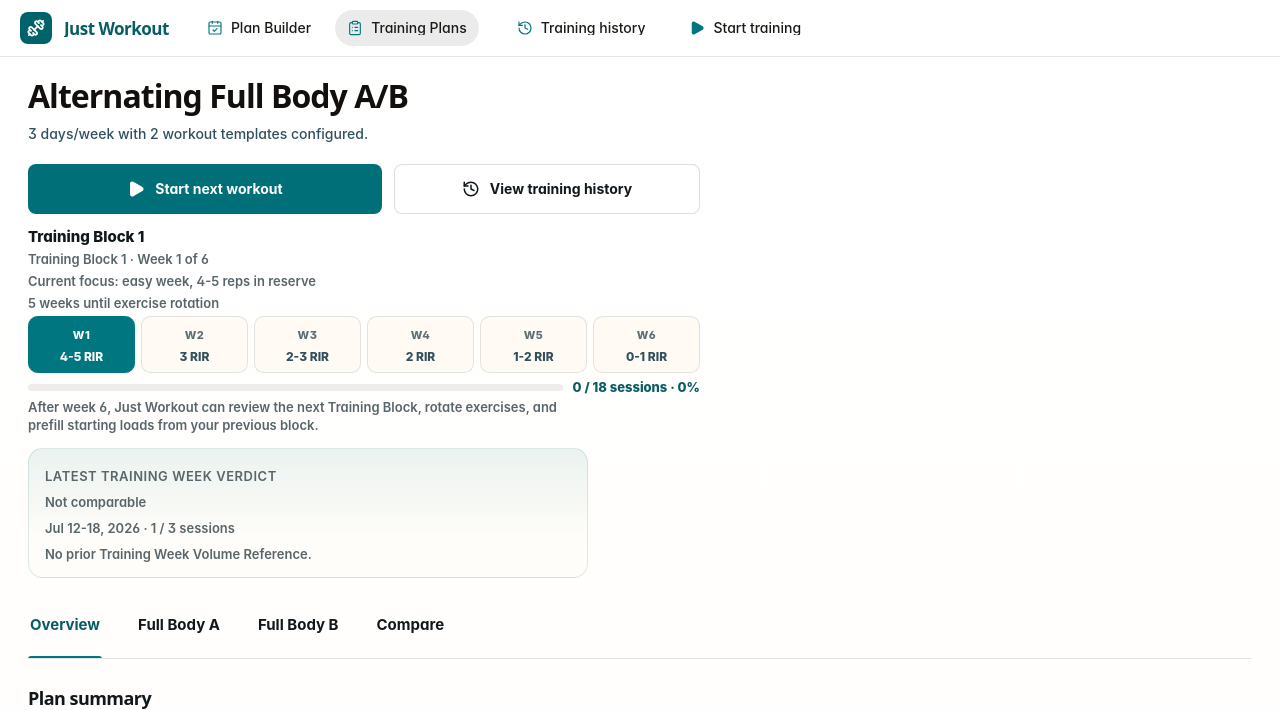
Scenario: TrainingPlanRoute › swaps a current-block workout slot before the first completed session and updates the next visible session
This screenshot has width=1280, height=710.
Expected: the heading "Alternating Full Body A/B" is shown, [28,74,408,117]
Click the tab "Full Body A".
click(179, 632)  # box [136,606,222,658]
(page scrolled)
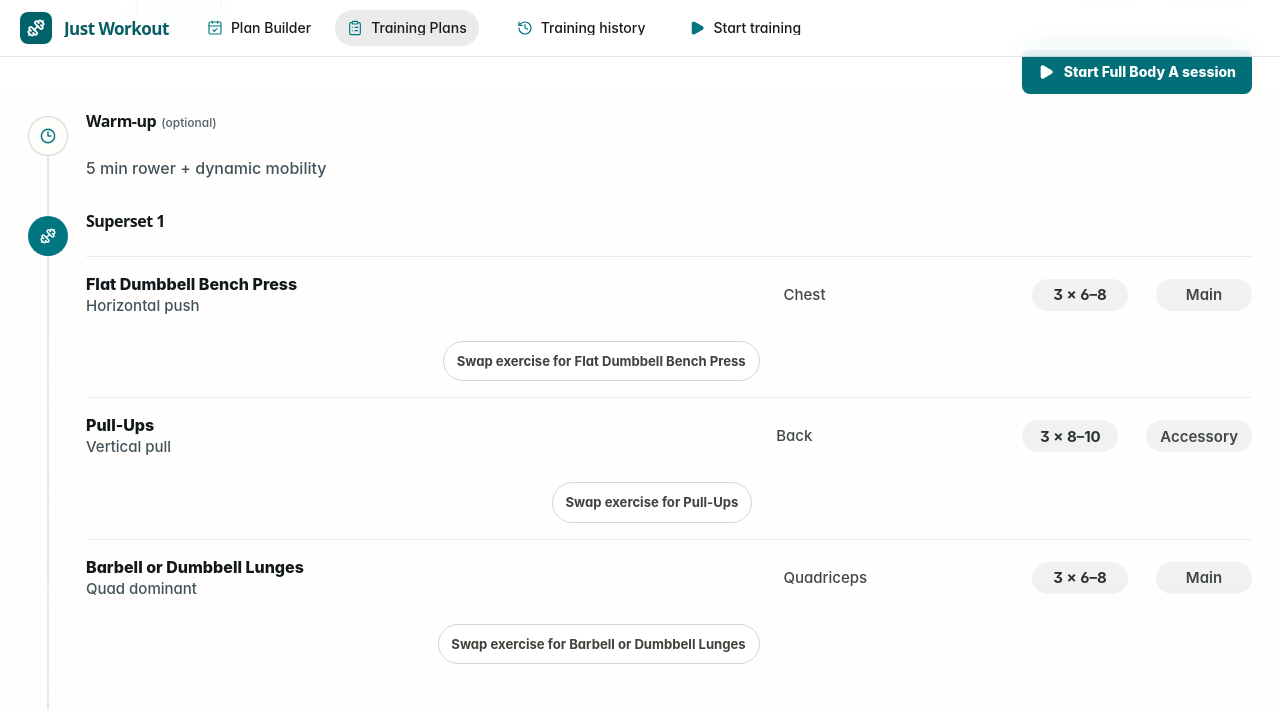
Click the button "Swap exercise for Flat Dumbbell Bench Press".
click(601, 361)  # box [443,341,760,381]
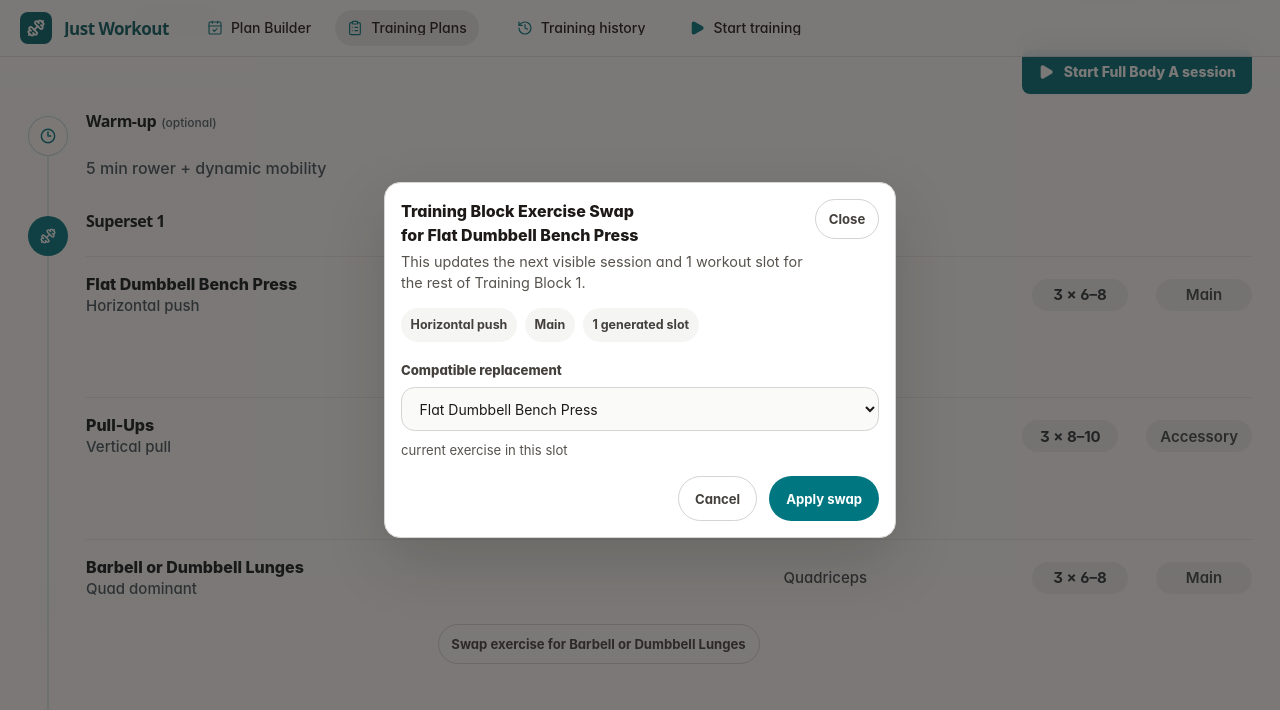
Result: the text "This updates the next visible session and 1 workout slot for the rest of Training Block 1." is shown at [401,253,803,291]
Select "Incline Dumbbell Bench Press" in the dropdown labelled "Compatible replacement" at [640, 409], box [401,388,879,431]
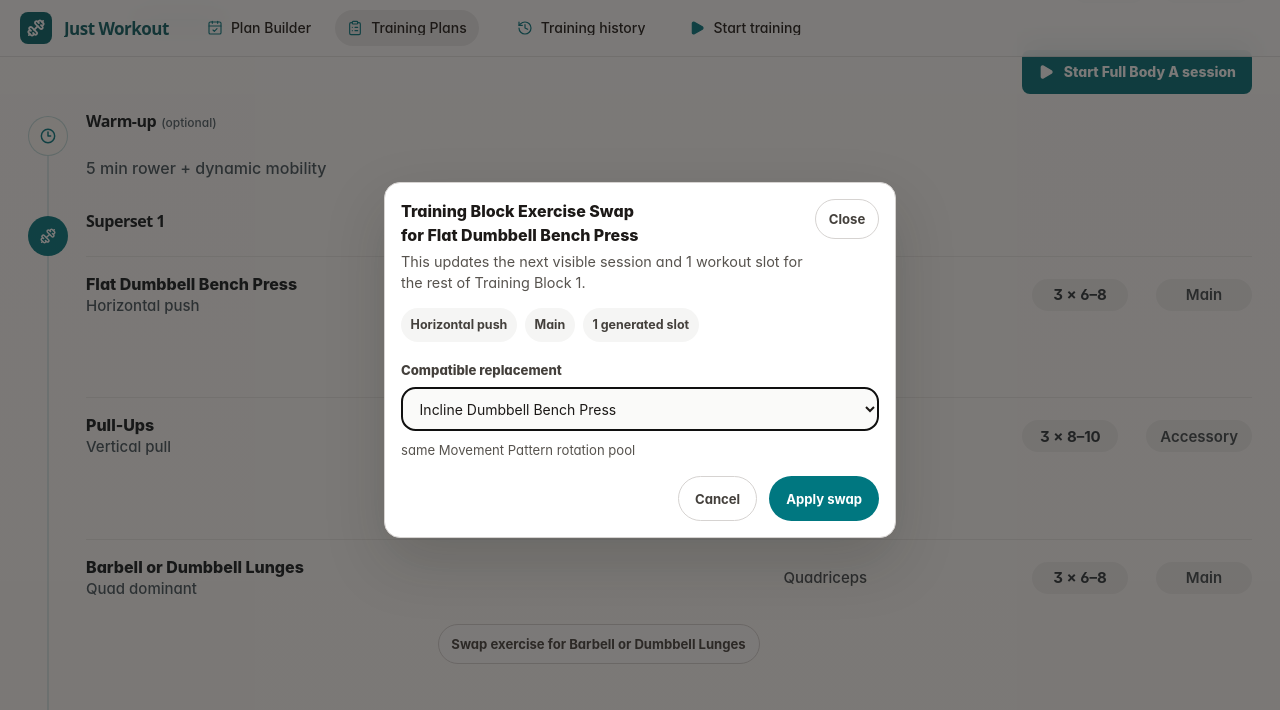
Click the button "Apply swap".
click(824, 499)  # box [769,476,879,522]
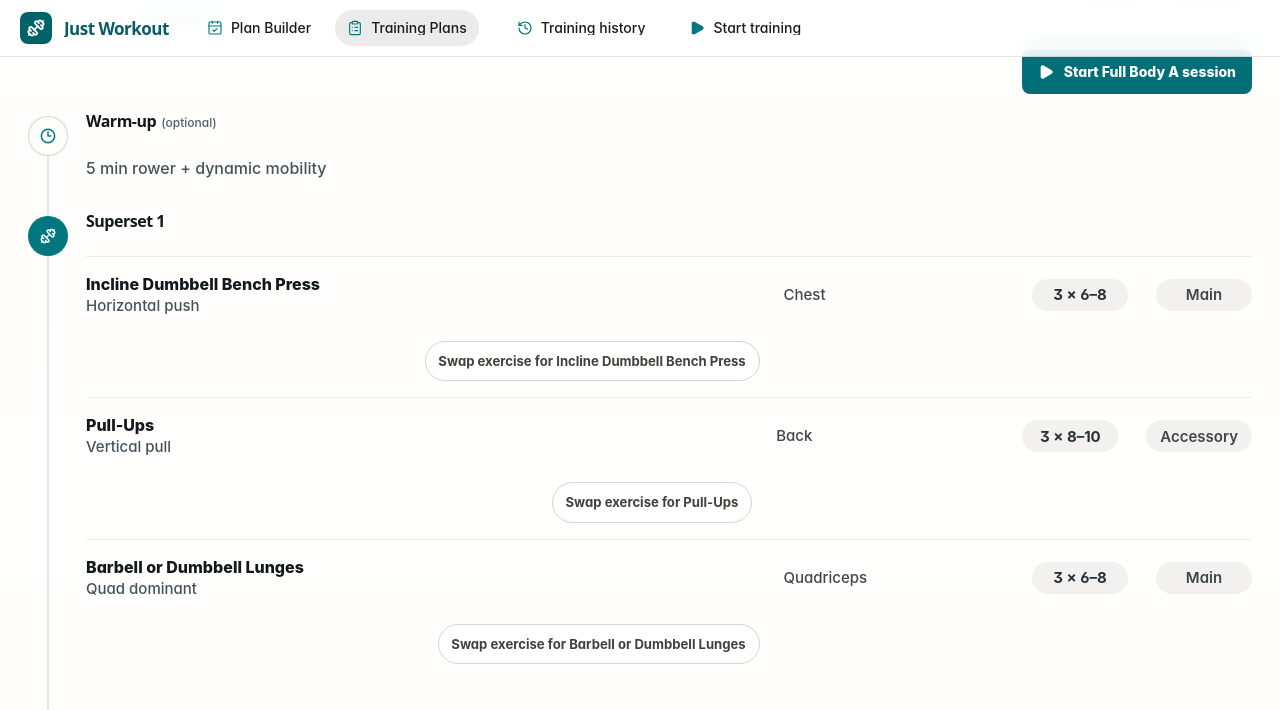
Result: the heading "Incline Dumbbell Bench Press" is shown at [86,274,320,294]
Click the button "Start Full Body A session".
click(1137, 72)  # box [1022,50,1252,94]
(page scrolled)
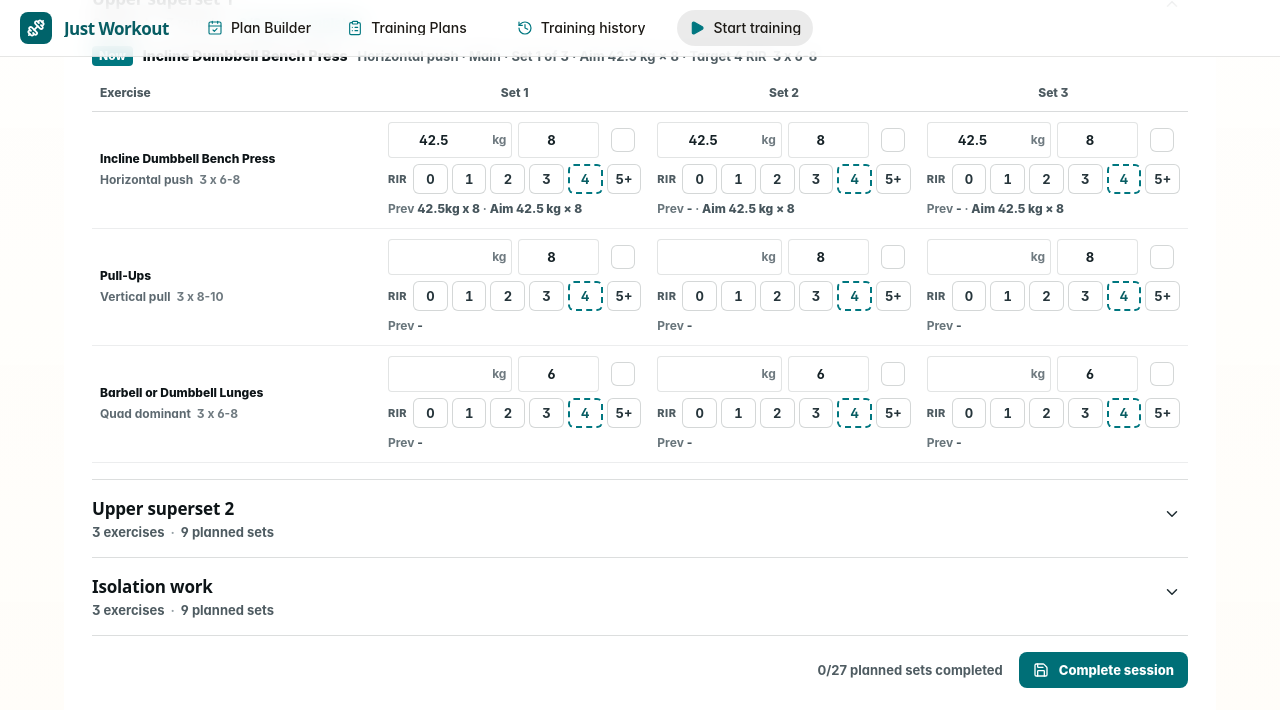
Result: the number field named "Incline Dumbbell Bench Press set 1 weight" holds "42.5" at [388,122,512,158]
